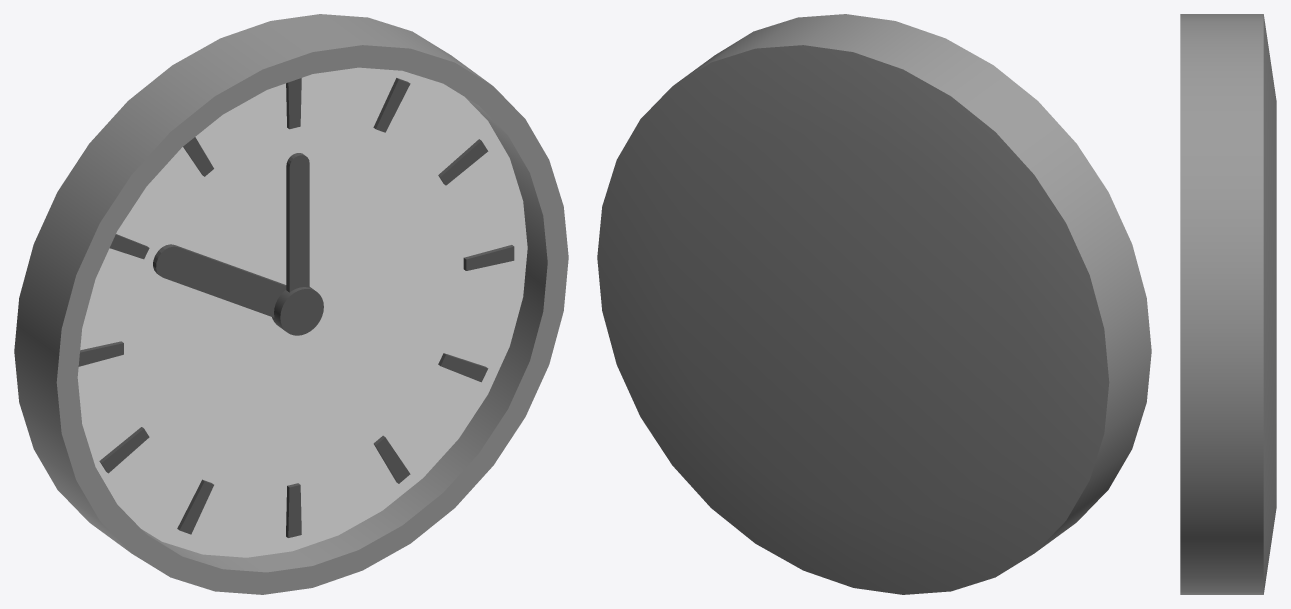
Rendered from ten_oclock.gltf.
3 renders of one model, left to right at view 1: azimuth 30°, elevation 25°; view 2: azimuth 150°, elevation 25°; view 3: azimuth 270°, elevation 25°, orthographic.
Visible parts, largest first — view 1: Circle.2489, Circle.2490, Plane.290, Plane.291; view 2: Circle.2489; view 3: Circle.2489.
Part boxes in pixels (<box>): Circle.2489: <box>14,14,568,594</box>; Circle.2490: <box>78,78,514,537</box>; Plane.290: <box>153,244,286,317</box>; Plane.291: <box>286,153,309,292</box>; Circle.2489: <box>597,14,1151,594</box>; Circle.2489: <box>1180,14,1276,594</box>.
Size of the model in its own units: 2.33 by 2.33 by 0.387.
1 material, 1 textured.
